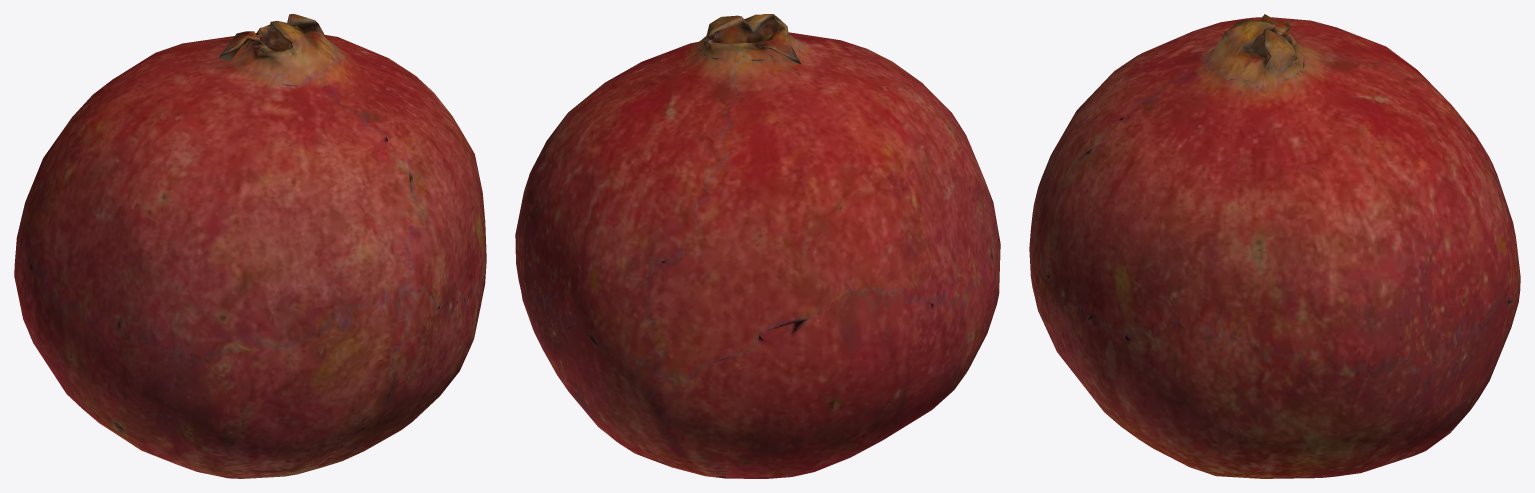
The model's file is food_pomegranate_01.glb.
3 views of the same model, side by side, from view 1: azimuth 30°, elevation 25°; view 2: azimuth 150°, elevation 25°; view 3: azimuth 270°, elevation 25° (orthographic). The views are drawn at different scales.
Visible parts, largest first — view 1: food_pomegranate_01; view 2: food_pomegranate_01; view 3: food_pomegranate_01.
Boxes of the visible parts, box(x1,y1,x2,y2) form: food_pomegranate_01: box(14, 14, 486, 478); food_pomegranate_01: box(515, 14, 1000, 478); food_pomegranate_01: box(1029, 14, 1520, 478).
Size of the model in its own units: 0.1142 by 0.1147 by 0.1154.
1 material, 1 textured.
